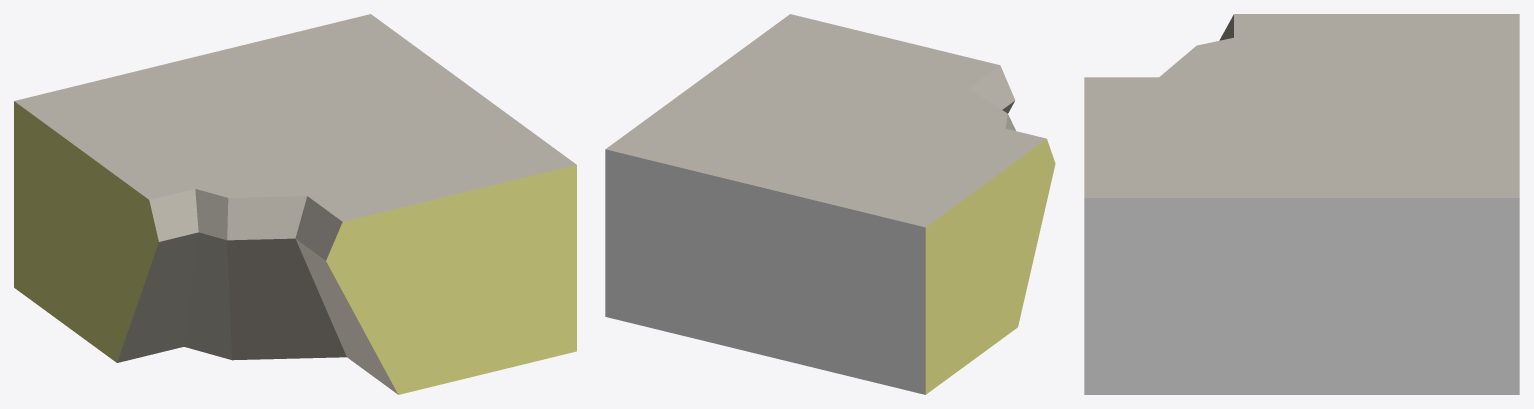
File: Cracked_Curve_Inner_2x2_1_Top.glb
The picture shows the model from 3 angles, left to right: view 1: azimuth 30°, elevation 25°; view 2: azimuth 150°, elevation 25°; view 3: azimuth 270°, elevation 25°; orthographic projection. The views are drawn at different scales.
Visible parts, largest first — view 1: Cracked_Curve_Inner_2x2_1_Top; view 2: Cracked_Curve_Inner_2x2_1_Top; view 3: Cracked_Curve_Inner_2x2_1_Top.
Boxes of the visible parts, <box> form: Cracked_Curve_Inner_2x2_1_Top: <box>14,14,576,394</box>; Cracked_Curve_Inner_2x2_1_Top: <box>605,14,1055,394</box>; Cracked_Curve_Inner_2x2_1_Top: <box>1084,14,1519,394</box>.
Size of the model in its own units: 200 by 100 by 200.
